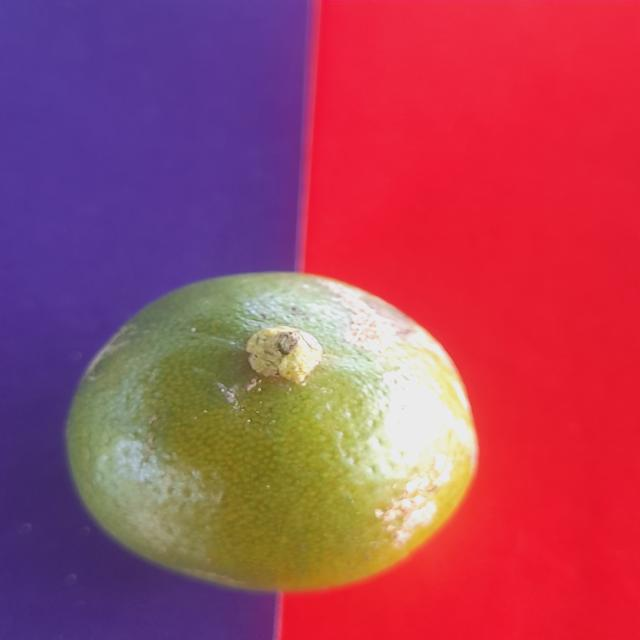thrips: (64, 264, 482, 597)
